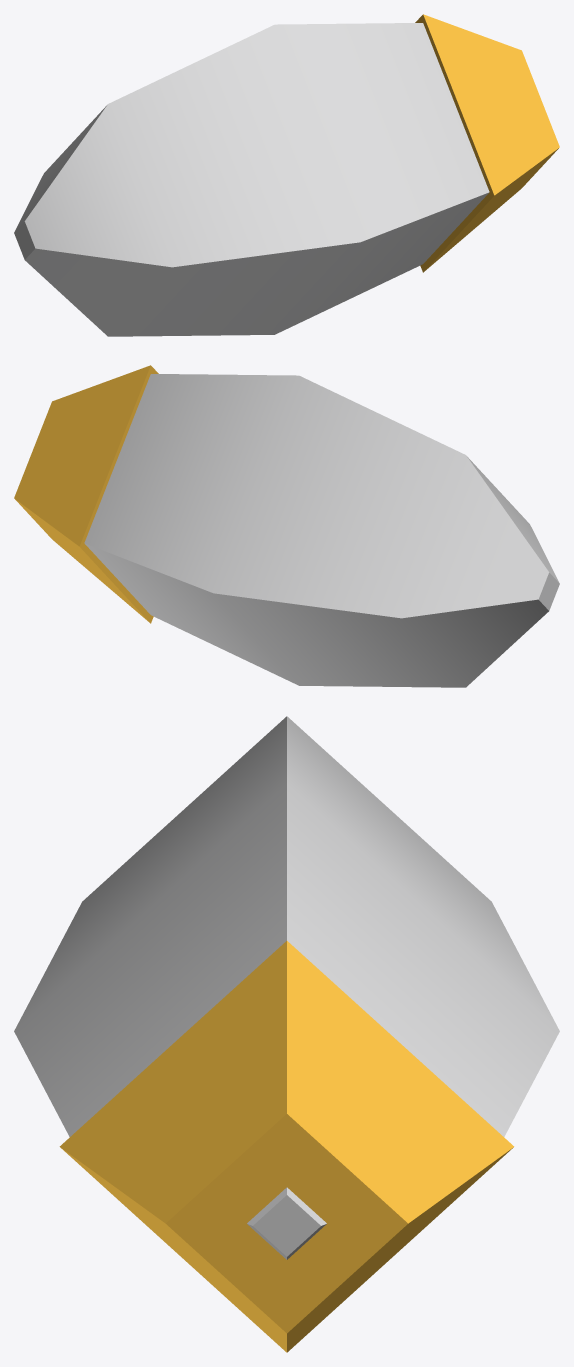
Rendered from bullet_lod2.glb.
The picture shows the model from 3 angles, top to bottom: view 1: azimuth 30°, elevation 25°; view 2: azimuth 150°, elevation 25°; view 3: azimuth 270°, elevation 25°; orthographic projection. The views are drawn at different scales.
Visible parts, largest first — view 1: bullet_lod2; view 2: bullet_lod2; view 3: bullet_lod2.
Part boxes in pixels (x1,y1,x2,y2): bullet_lod2: (14,14,559,336); bullet_lod2: (14,365,559,687); bullet_lod2: (14,716,559,1352).
Bounding box in the file's own units: 0.0607 × 0.036 × 0.036.
